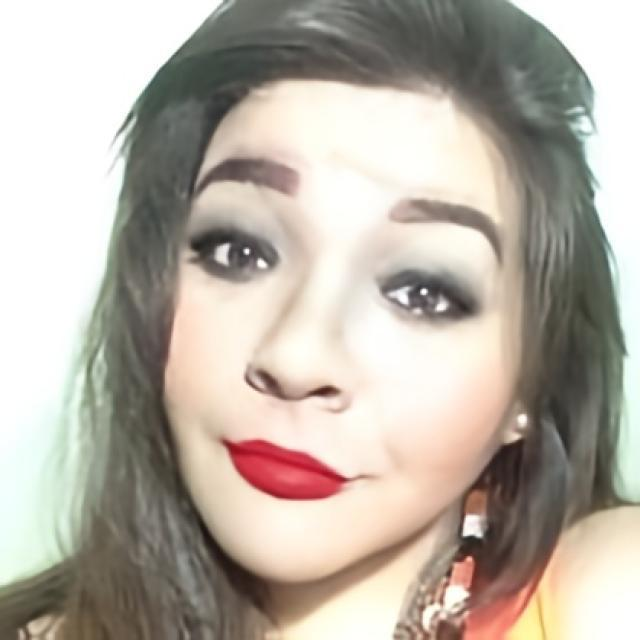content: (158, 74, 528, 588)
